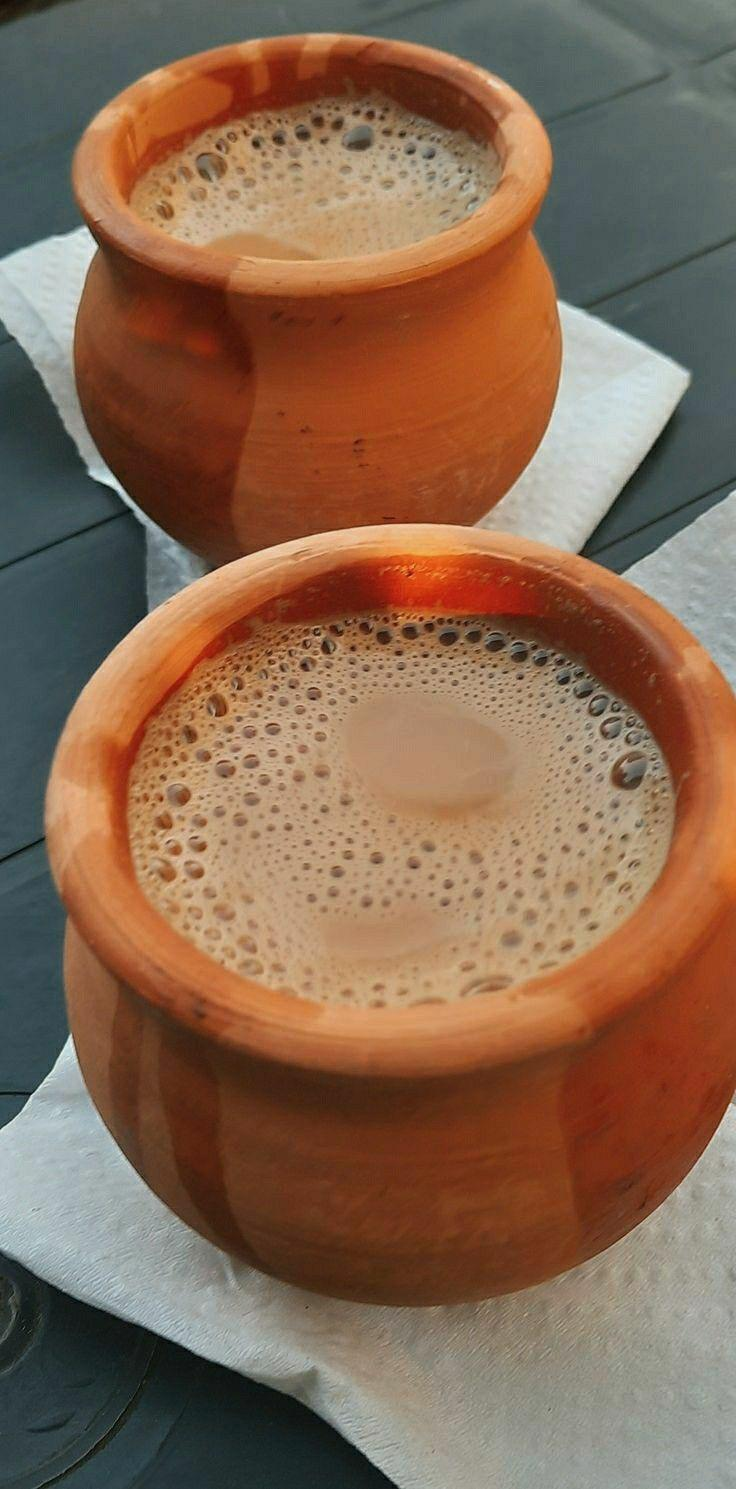Chai: (122, 610, 677, 1017), (137, 83, 504, 268)
